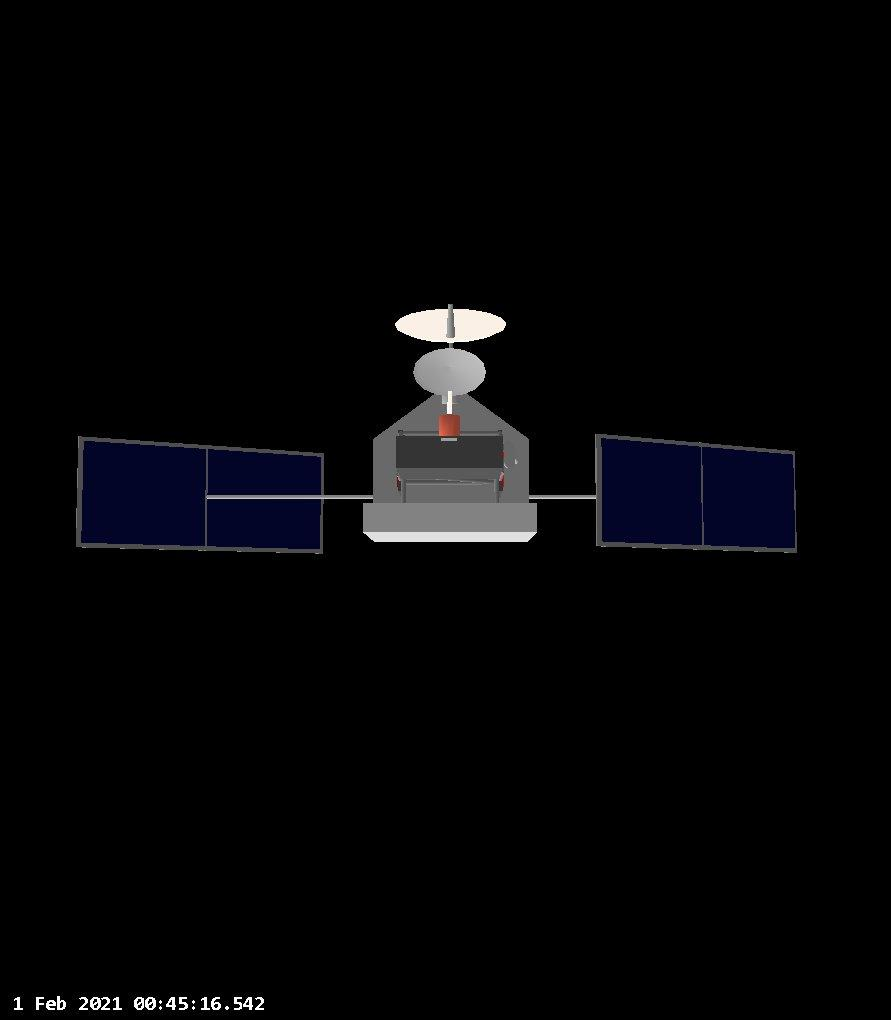antenna: (393, 302, 509, 344), (410, 345, 487, 397)
